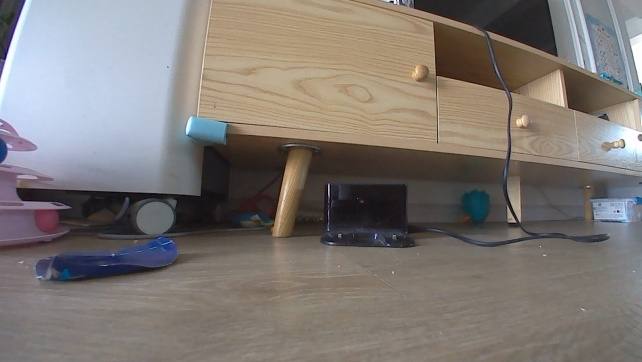TV_stand1: (183, 0, 641, 243)
charger: (316, 180, 418, 250)
wire: (406, 18, 612, 251), (89, 224, 274, 242), (259, 171, 281, 195)
